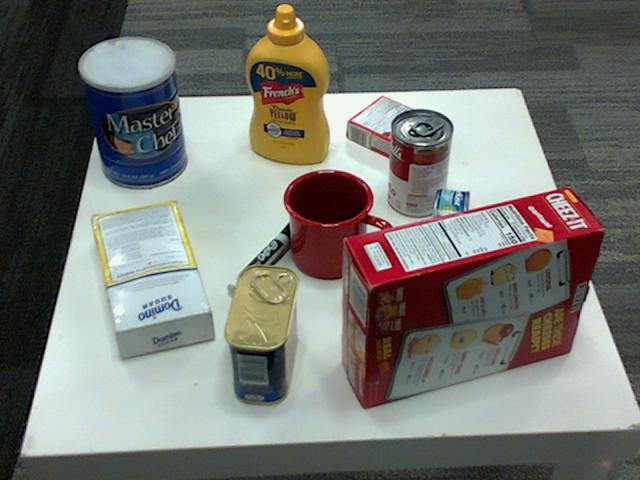cracker_box: (341, 185, 603, 405)
gelatin_box: (348, 95, 439, 161)
large_marker: (225, 222, 300, 302)
master_chef_can: (76, 37, 185, 189)
mug: (282, 166, 391, 276)
mustard_bottle: (244, 5, 329, 163)
potted_meat_can: (224, 264, 299, 405)
sugar_box: (90, 198, 212, 353)
tomato_soup_can: (386, 109, 452, 217)
tuna_fish_can: (426, 187, 469, 271)
